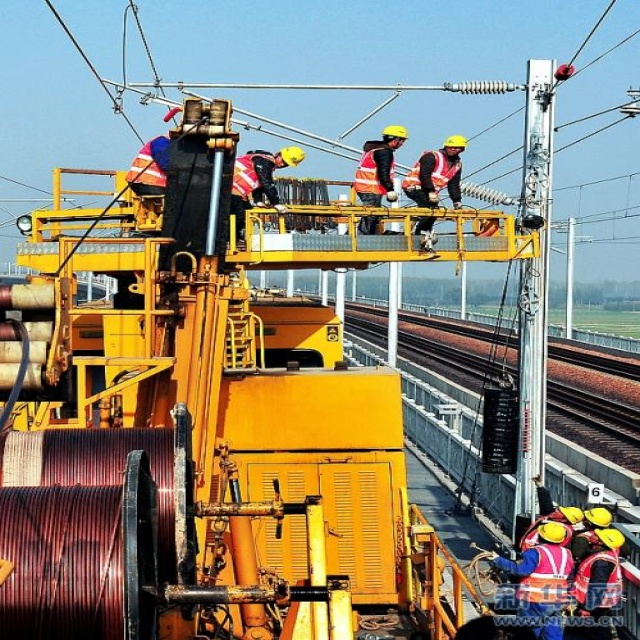Helmet: (377, 115, 413, 160), (273, 138, 310, 173), (438, 128, 473, 163), (593, 523, 629, 556), (536, 520, 568, 550), (580, 503, 616, 529), (551, 500, 583, 528)
Reflective vest: (572, 550, 629, 615), (520, 545, 575, 612), (125, 133, 173, 199), (405, 145, 458, 201), (353, 142, 397, 198), (230, 152, 275, 199)
